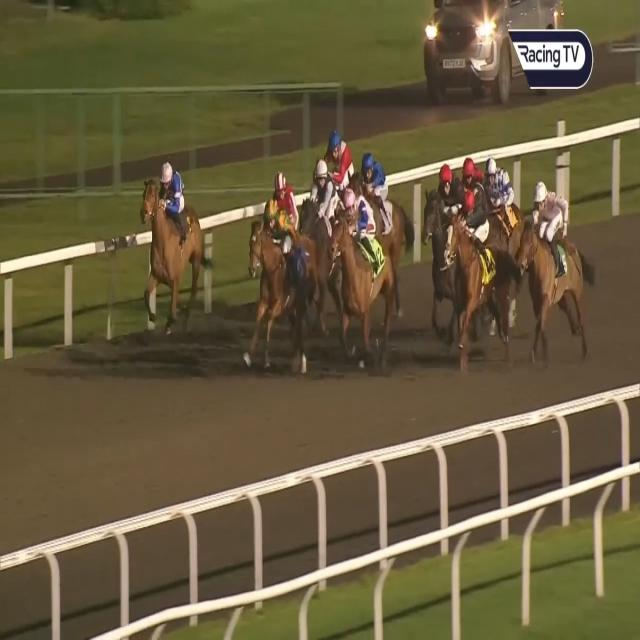horses-racing: (516, 174, 586, 368), (137, 156, 210, 308), (249, 200, 308, 370), (335, 188, 393, 351), (452, 188, 506, 347), (304, 166, 348, 287), (420, 157, 456, 257), (321, 130, 364, 199), (356, 158, 392, 213), (482, 156, 516, 212), (454, 147, 487, 192), (269, 167, 298, 213)
